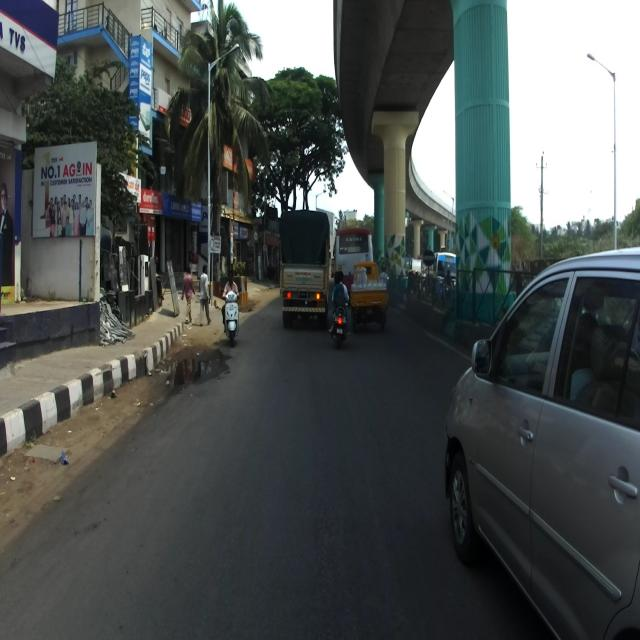autorickshaw: (347, 260, 389, 332)
car: (439, 246, 640, 639)
scooter: (222, 289, 241, 346), (331, 294, 348, 343)
truck: (279, 210, 333, 329)
